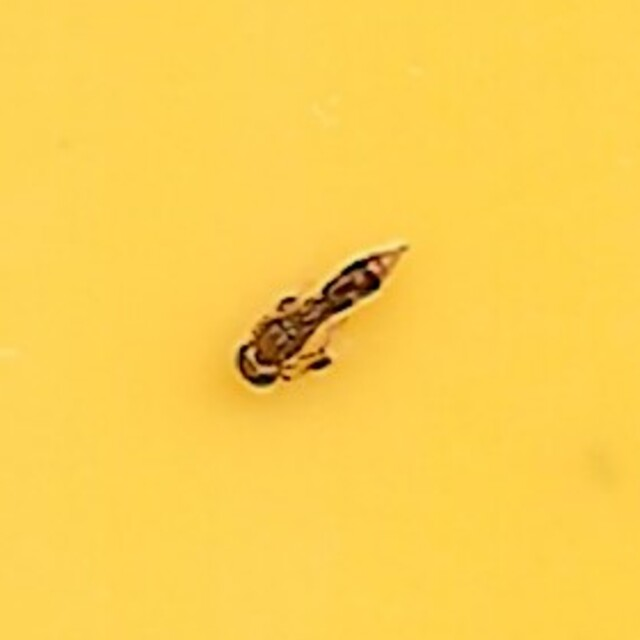Hymenoptera: (229, 240, 411, 400)
